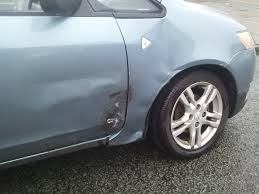Dent: (19, 69, 125, 112), (142, 17, 198, 75)
Scratch: (103, 87, 134, 133)
